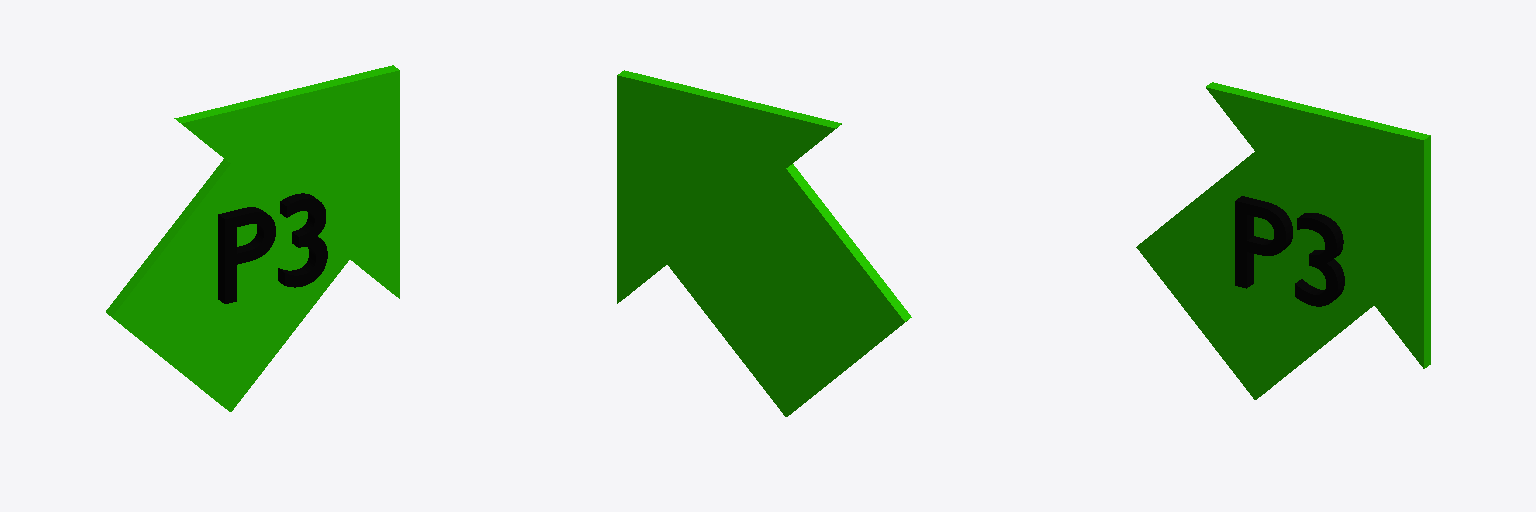
Rendered from Player3.obj.
3 renders of one model, left to right at view 1: azimuth 30°, elevation 25°; view 2: azimuth 150°, elevation 25°; view 3: azimuth 330°, elevation 25°, orthographic.
Parts seen in each view (by area): view 1: Cube, Cube.001; view 2: Cube; view 3: Cube, Cube.001.
Boxes of the visible parts, <box> form: Cube: <box>106,65,399,411</box>; Cube.001: <box>218,193,327,303</box>; Cube: <box>617,70,911,416</box>; Cube: <box>1136,82,1430,399</box>; Cube.001: <box>1235,196,1344,306</box>.
Bounding box in the file's own units: 2.42 × 2.42 × 0.2.